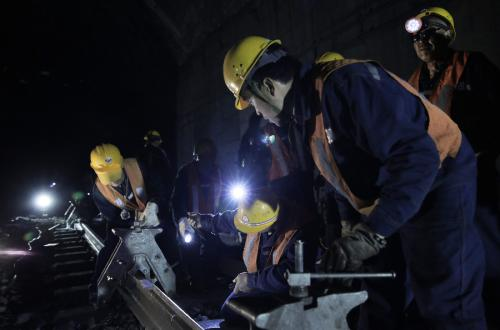gloves: (319, 219, 387, 288), (231, 262, 290, 298), (137, 201, 161, 228)
hard-hat: (222, 34, 283, 110), (403, 7, 456, 63), (233, 189, 280, 233), (403, 6, 456, 44), (89, 143, 124, 186)
person: (221, 34, 488, 329), (404, 5, 500, 279), (87, 143, 169, 303), (169, 136, 225, 291)
ppe-suit: (270, 46, 488, 329)
vest: (313, 50, 466, 231), (411, 58, 480, 127), (240, 225, 296, 284), (101, 160, 154, 215), (182, 163, 221, 218)
